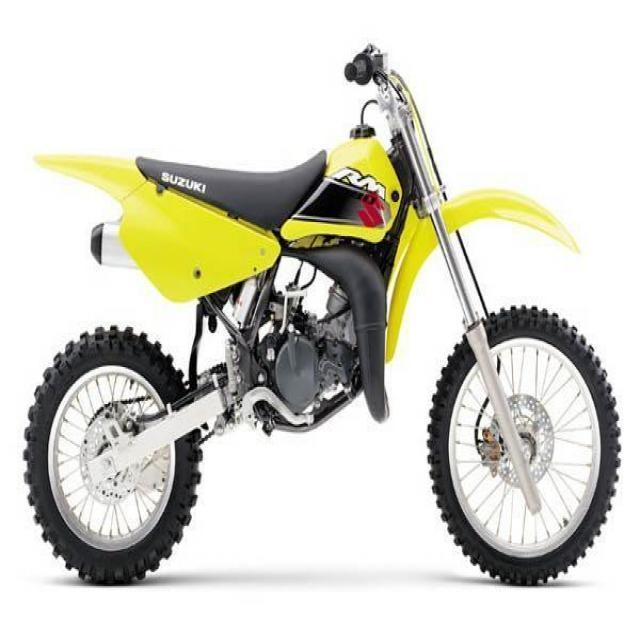Motorcycle: (23, 46, 622, 594)
